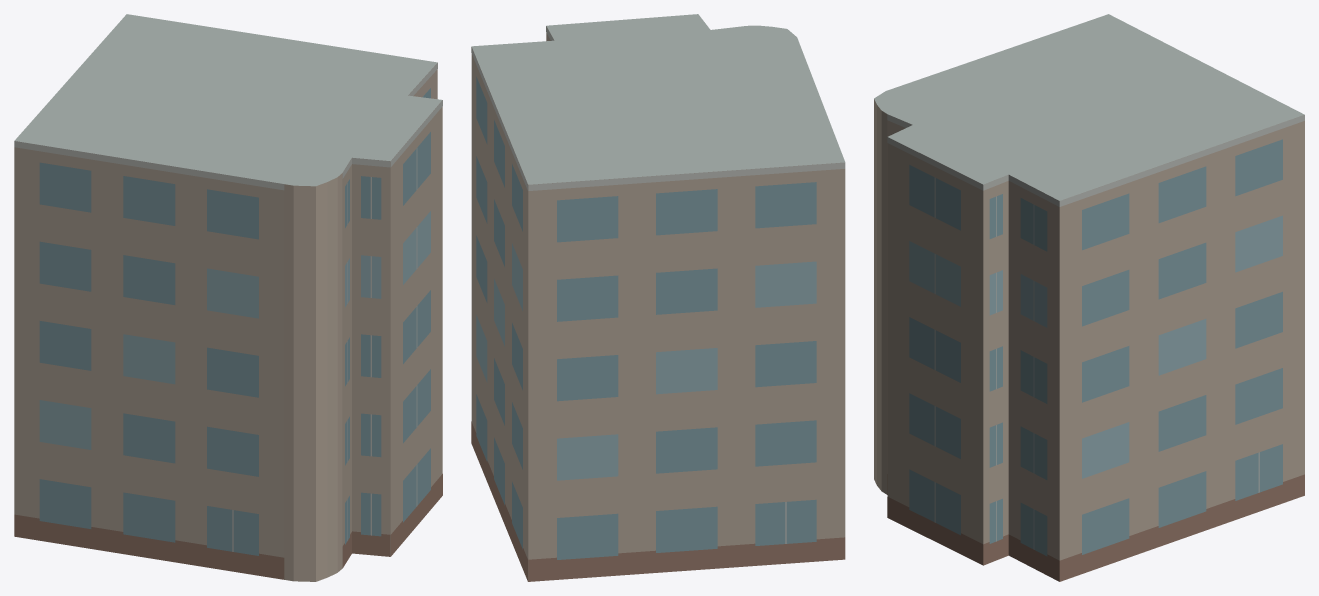
Rendered from survey-upis-32693474.glb.
3 views of the same model, side by side, from view 1: azimuth 30°, elevation 25°; view 2: azimuth 150°, elevation 25°; view 3: azimuth 270°, elevation 25° (orthographic). The views are drawn at different scales.
Visible parts, largest first — view 1: survey-upis-32693474.tmp; view 2: survey-upis-32693474.tmp; view 3: survey-upis-32693474.tmp.
Boxes of the visible parts, x1,y1,x2,y2 form: survey-upis-32693474.tmp: [14, 14, 442, 581]; survey-upis-32693474.tmp: [471, 14, 845, 581]; survey-upis-32693474.tmp: [874, 14, 1304, 581].
Bounding box in the file's own units: 16.06 × 15.25 × 15.64.
